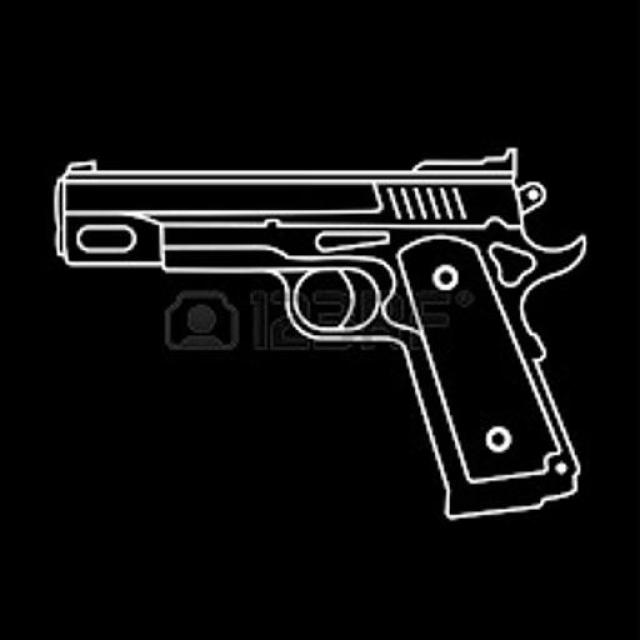pistol: (59, 150, 585, 525)
